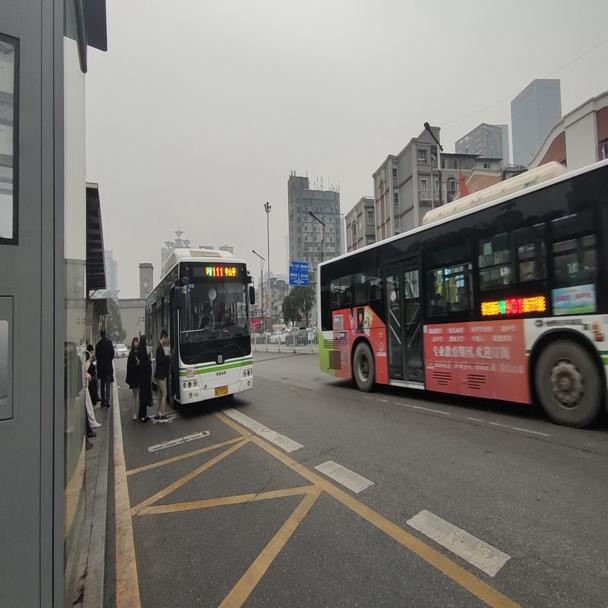bus: (316, 139, 605, 425), (144, 247, 258, 405)
screen: (210, 261, 223, 280)
